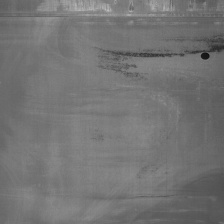welding_line: (1, 7, 224, 24)
